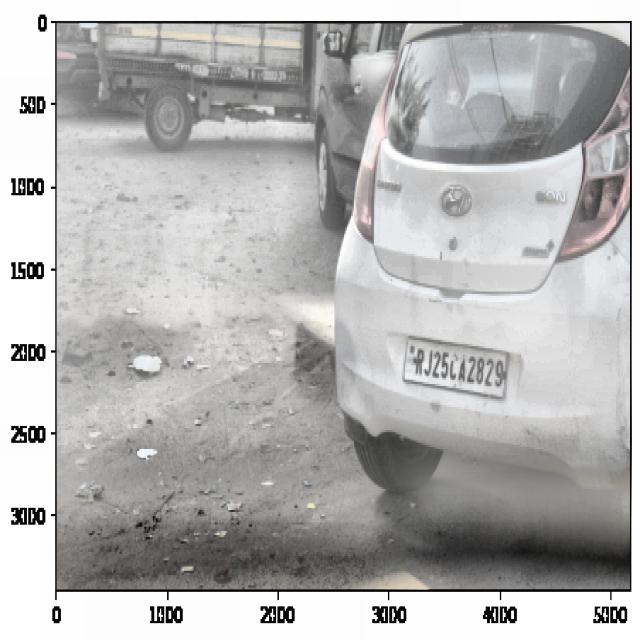license_plate: (407, 342, 508, 393)
